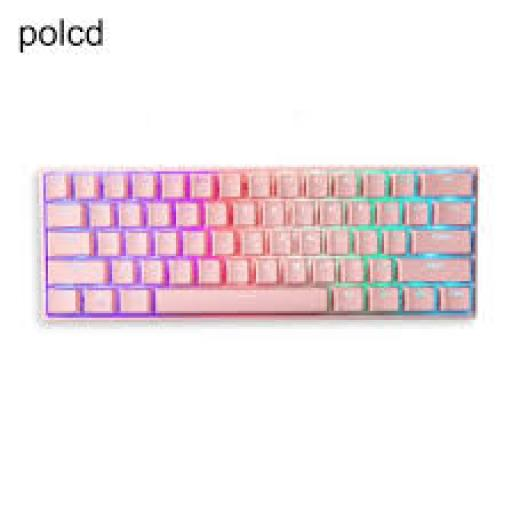keyboard: (41, 167, 475, 318)
